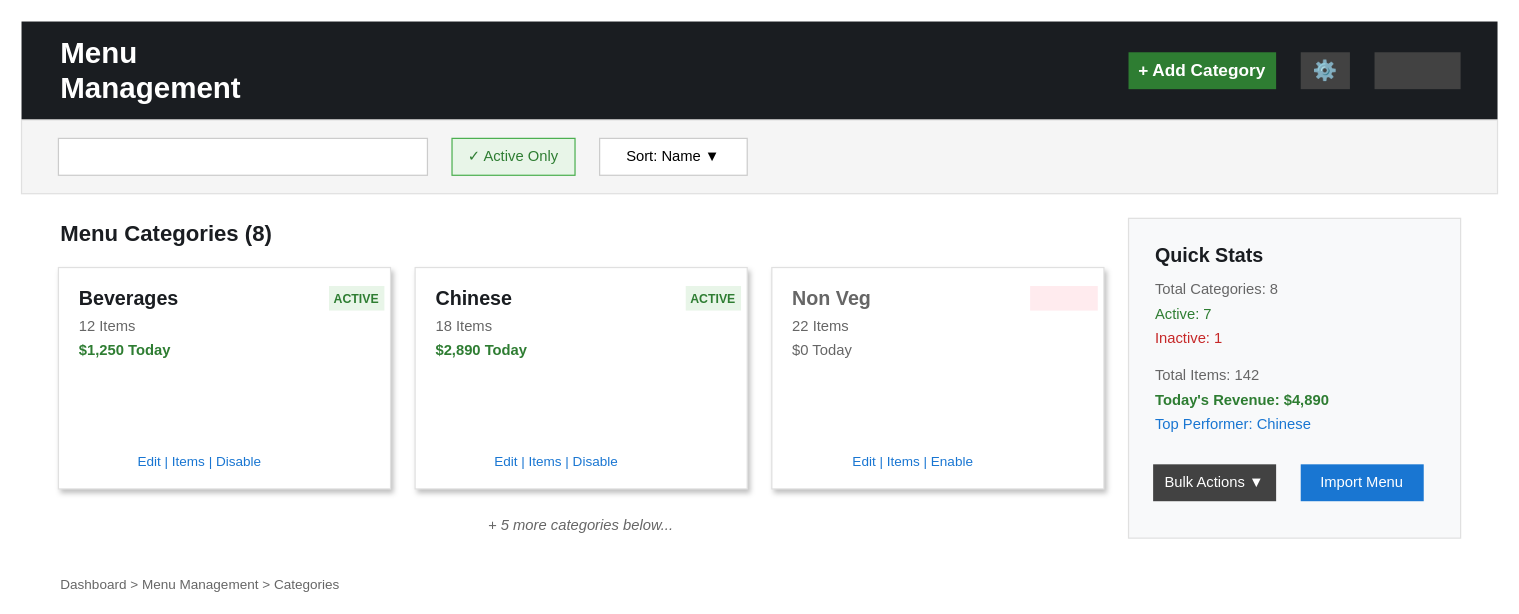
The diagram is 1519 pixels wide and 614 high, and some of its shapes have lost their labels. The shapes that lost their labels are listed below. From the top down, each one's centre as x and y in pixels, then its label:
the point at 1417,70: ← Back
the point at 242,156: 🔍 Search categories...
the point at 1063,297: INACTIVE
